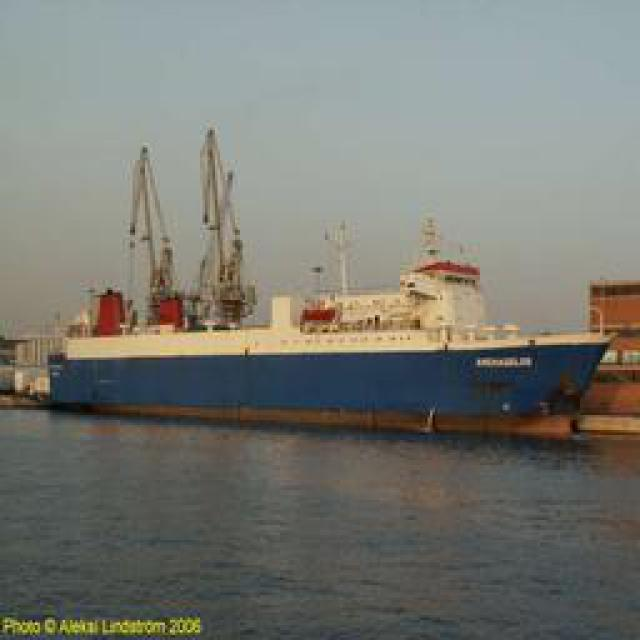Ship: (30, 268, 623, 426)
